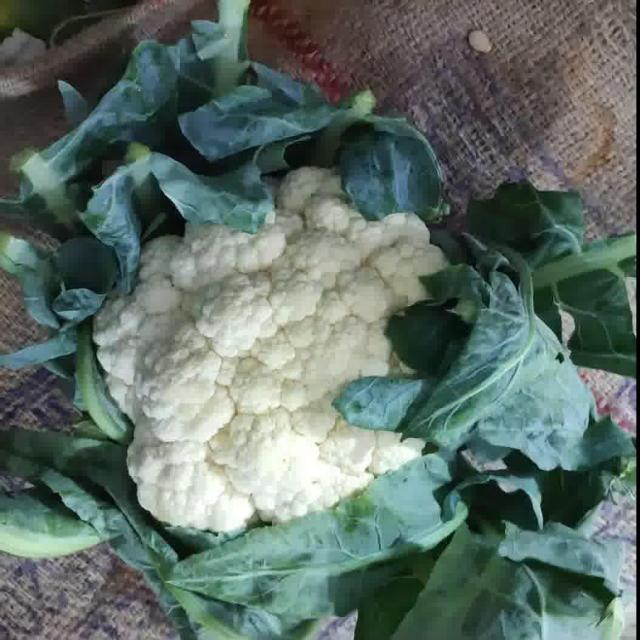Cauliflower: (94, 168, 448, 533)
